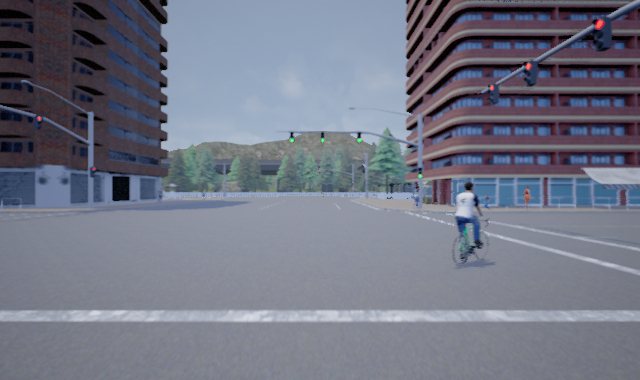bike: (451, 181, 489, 267)
pedestrian: (519, 184, 534, 210), (479, 192, 494, 210), (411, 185, 422, 209)
traffic_light: (591, 17, 613, 52), (521, 60, 538, 88), (486, 83, 501, 105), (33, 113, 45, 133), (288, 130, 296, 144), (355, 130, 363, 144), (88, 165, 96, 178), (320, 131, 327, 144)
